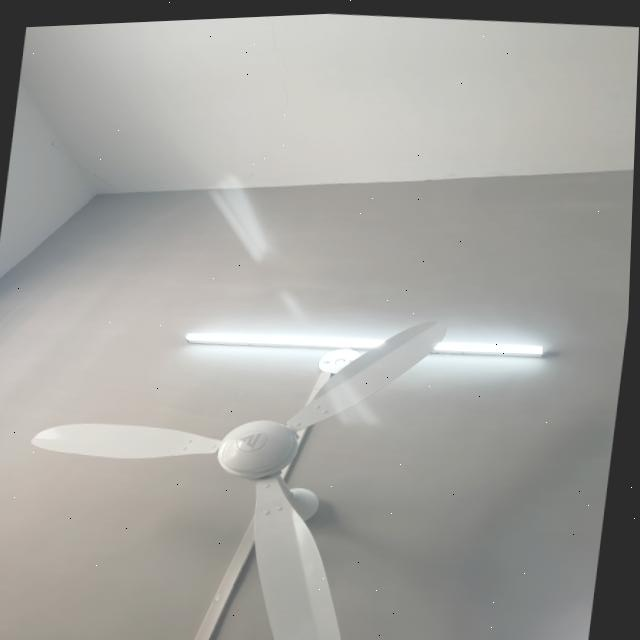fluorescent tube: (179, 301, 560, 384)
